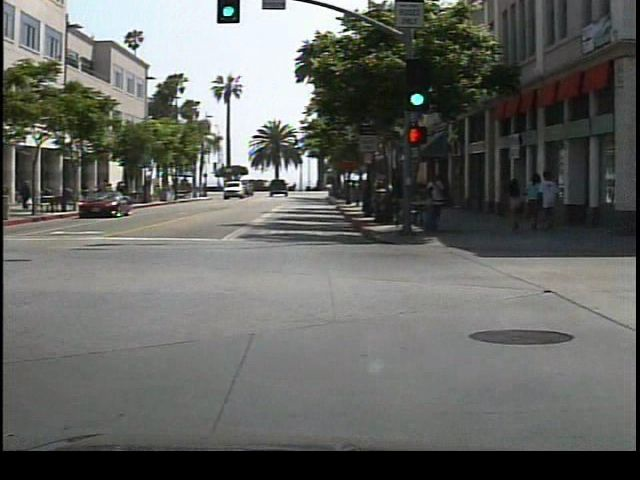person: (431, 168, 458, 223), (23, 175, 39, 213)
